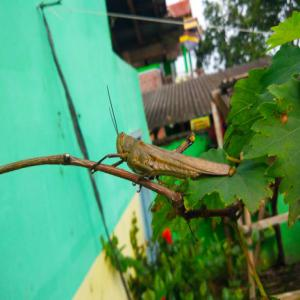locust: (98, 88, 236, 199)
